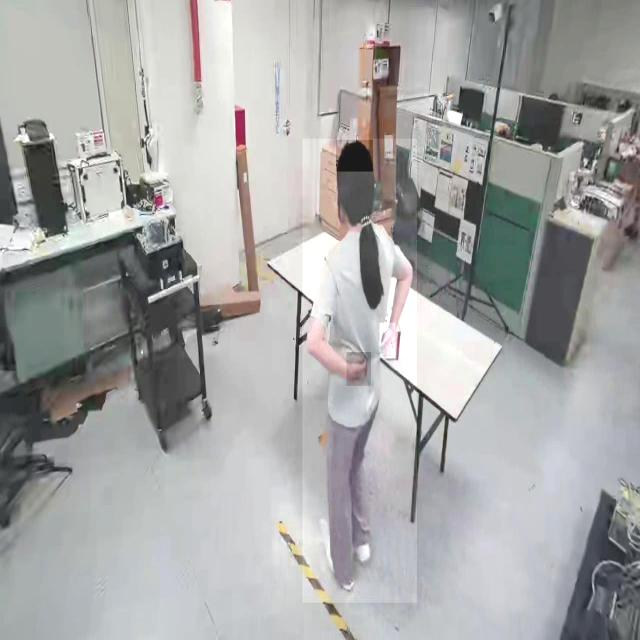hand_noglove: (346, 352, 372, 387), (380, 323, 396, 359)
head_nohelmet: (336, 140, 374, 172)
person: (302, 138, 418, 604)
